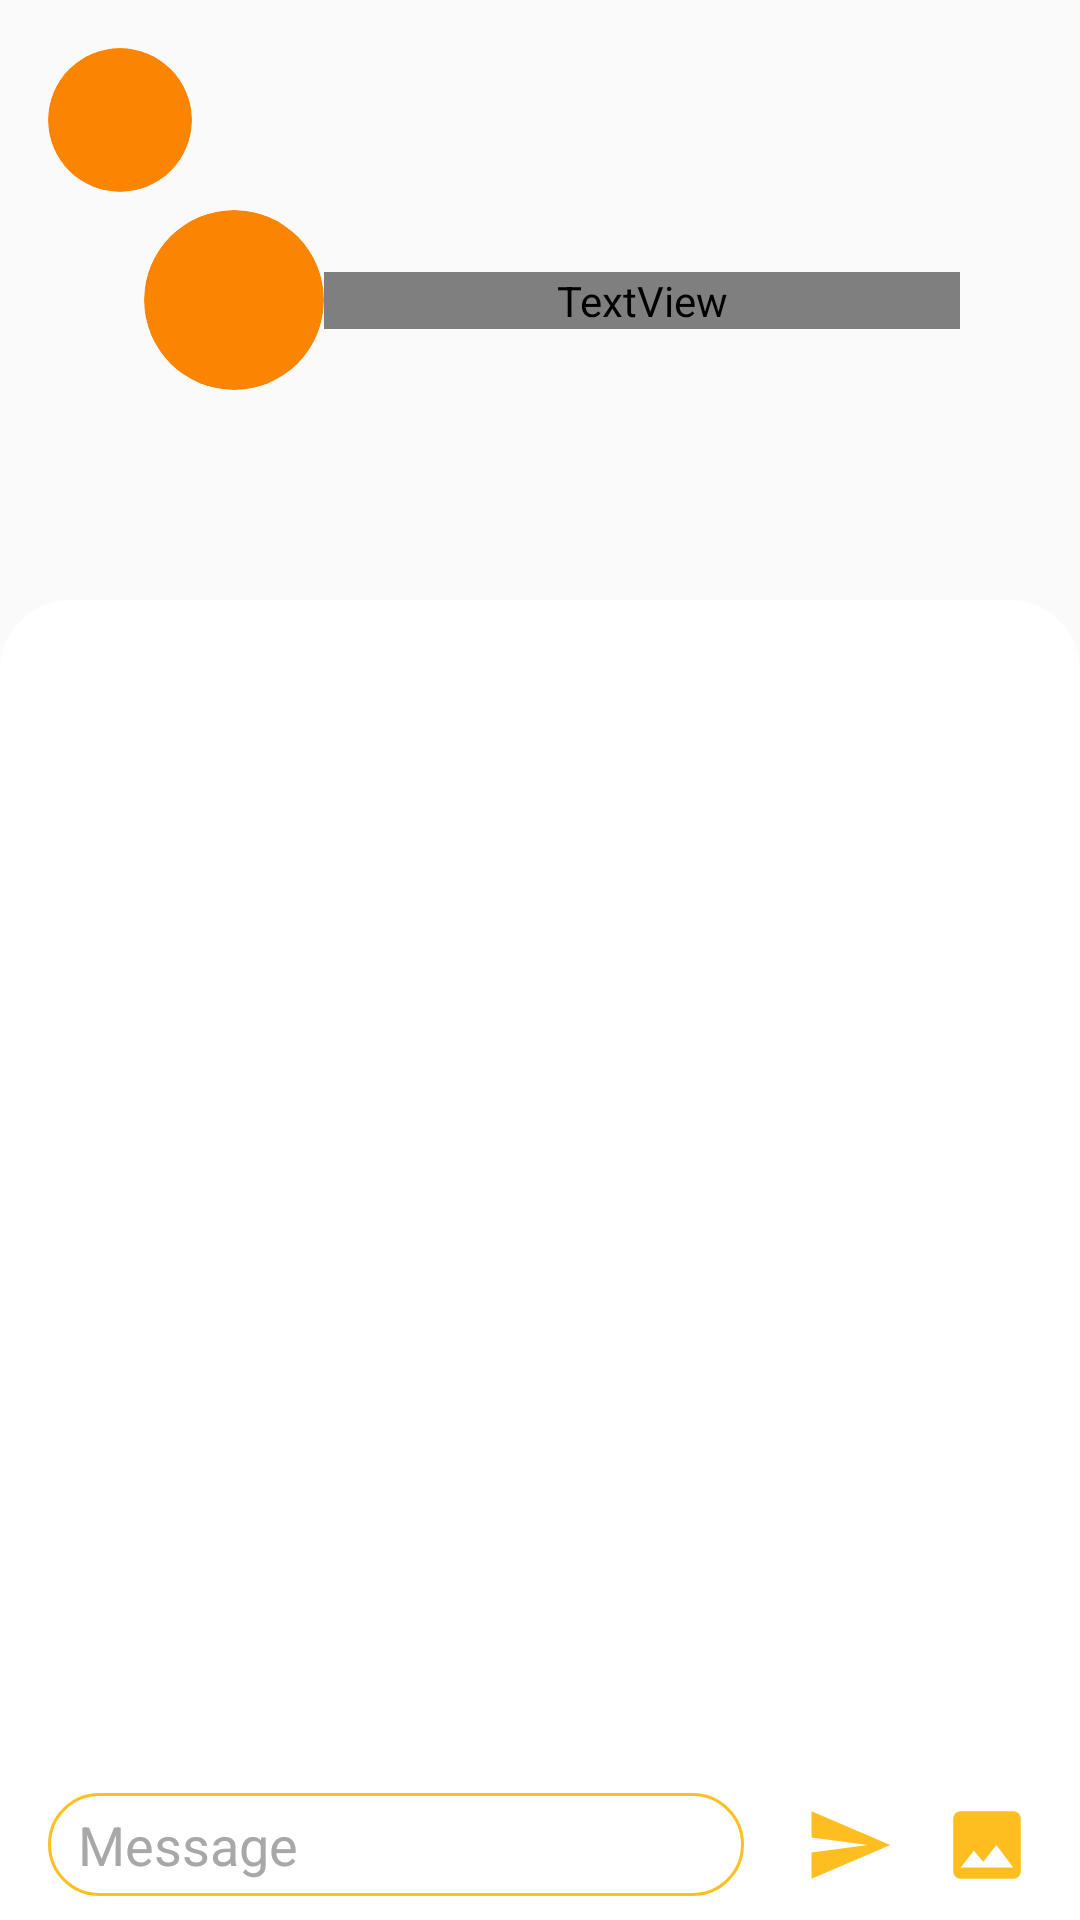

Screen size 1080 × 1920. Icon name, then its box in pixels as (x1, y1, x2, y2):
send: (811, 1811, 890, 1879)
